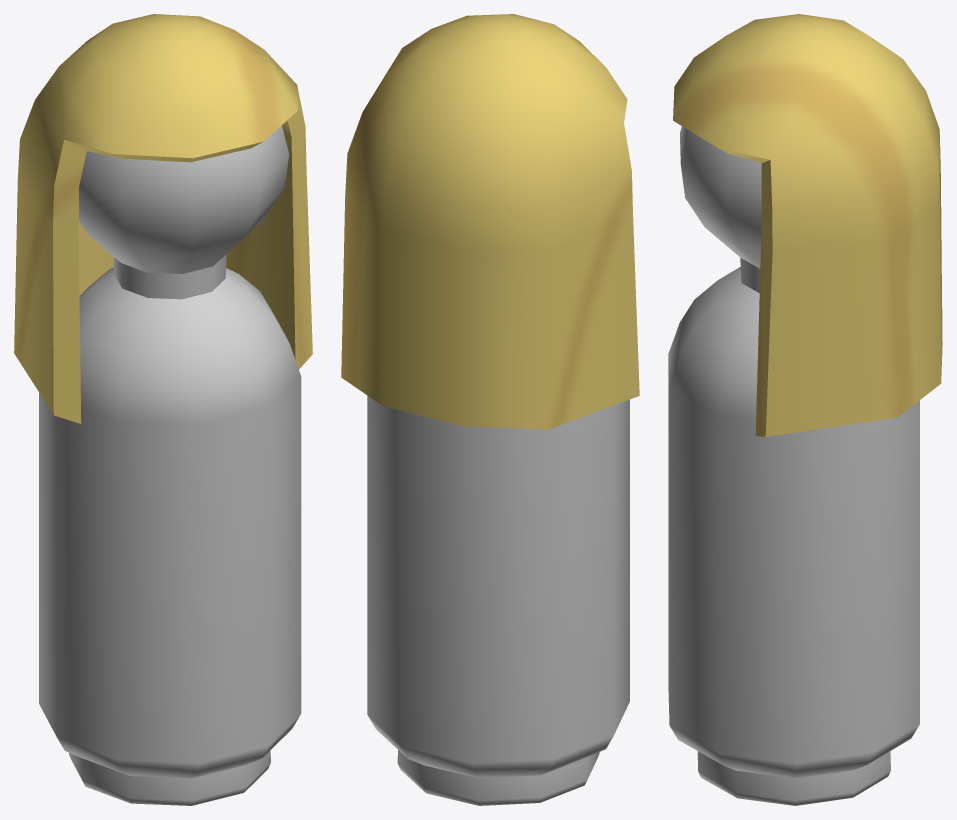
The model's file is Peg_Shirt_Long_YellowHair.fbx.
3 renders of one model, left to right at view 1: azimuth 30°, elevation 25°; view 2: azimuth 150°, elevation 25°; view 3: azimuth 270°, elevation 25°, orthographic.
Visible parts, largest first — view 1: Peg_Shirt_Long_YellowHair; view 2: Peg_Shirt_Long_YellowHair; view 3: Peg_Shirt_Long_YellowHair.
Part boxes in pixels (x1,y1,x2,y2): Peg_Shirt_Long_YellowHair: (14,14,312,805); Peg_Shirt_Long_YellowHair: (341,14,639,805); Peg_Shirt_Long_YellowHair: (668,14,942,805).
Size of the model in its own units: 2.13 by 5.86 by 1.96.
